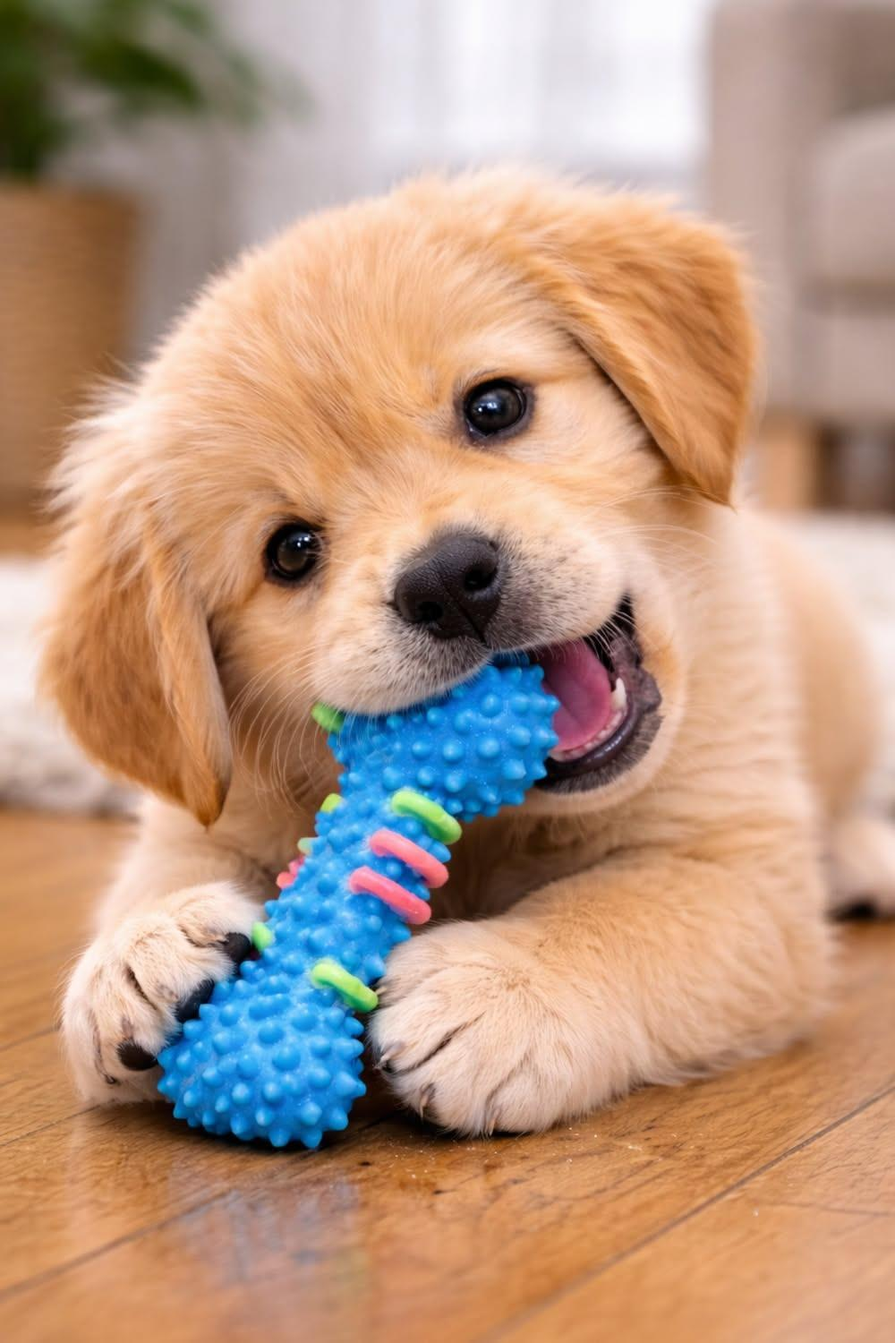puppy-dog: (24, 155, 892, 1141)
